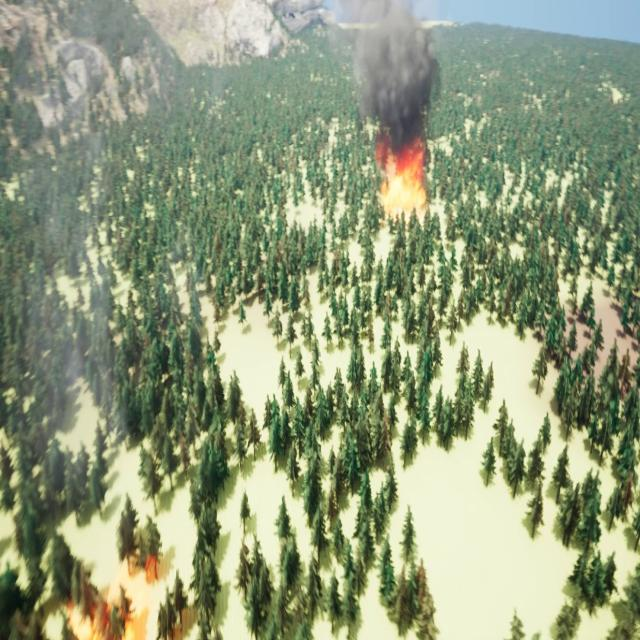fire: (60, 555, 153, 639), (375, 144, 430, 212)
smoke: (323, 0, 439, 138)
